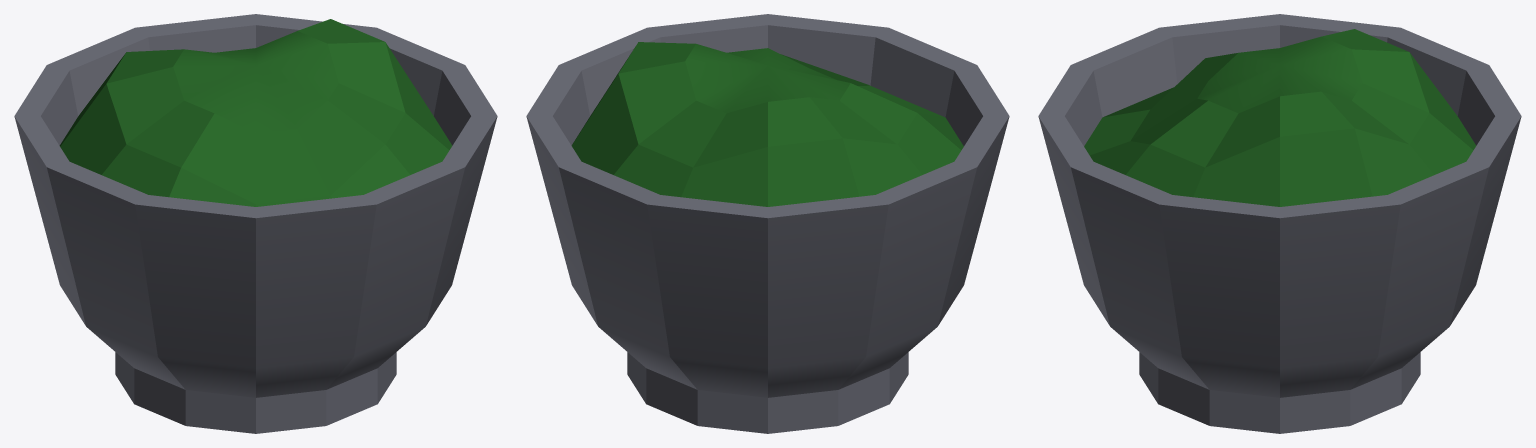
Rendered from TT_Japanese_Bowl.fbx.
The picture shows the model from 3 angles, left to right: view 1: azimuth 30°, elevation 25°; view 2: azimuth 150°, elevation 25°; view 3: azimuth 270°, elevation 25°; orthographic projection.
Visible parts, largest first — view 1: Grownd_Bowl; view 2: Grownd_Bowl; view 3: Grownd_Bowl.
Boxes of the visible parts, x1,y1,x2,y2 form: Grownd_Bowl: (14,14,497,433); Grownd_Bowl: (526,14,1009,433); Grownd_Bowl: (1038,14,1521,433).
Size of the model in its own units: 9.49 by 6.79 by 9.49.
